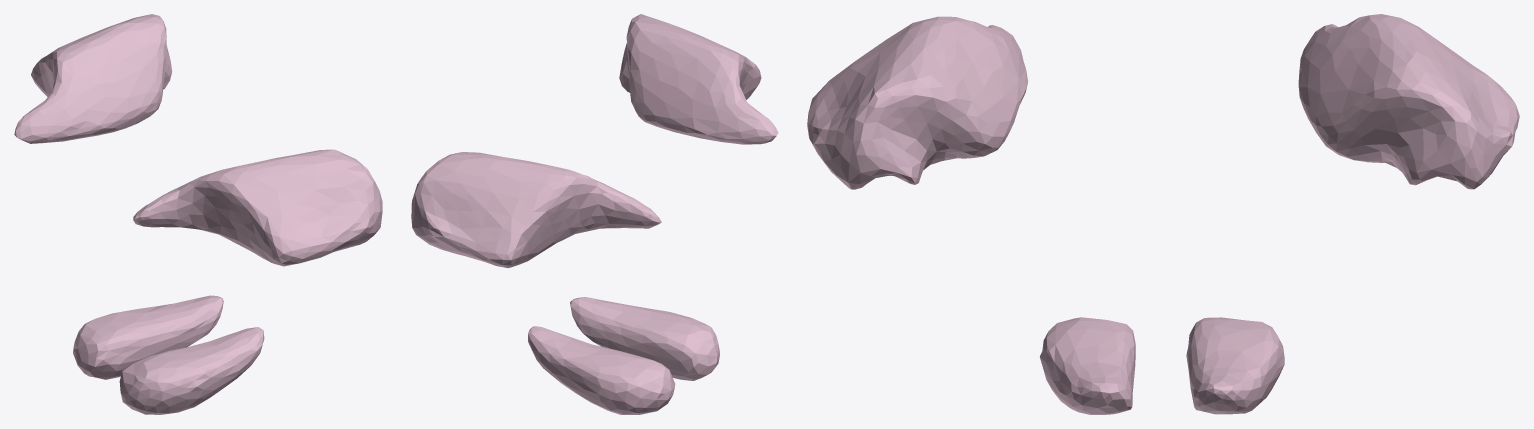
3 views of the same model, side by side, from view 1: azimuth 30°, elevation 25°; view 2: azimuth 150°, elevation 25°; view 3: azimuth 270°, elevation 25° (orthographic). The views are drawn at different scales.
Parts seen in each view (by area): view 1: 938.obj; view 2: 938.obj; view 3: 938.obj.
Part boxes in pixels (<box>): 938.obj: <box>14,14,382,414</box>; 938.obj: <box>411,14,778,414</box>; 938.obj: <box>807,14,1519,414</box>.
Size of the model in its own units: 1506 by 2037 by 3383.
